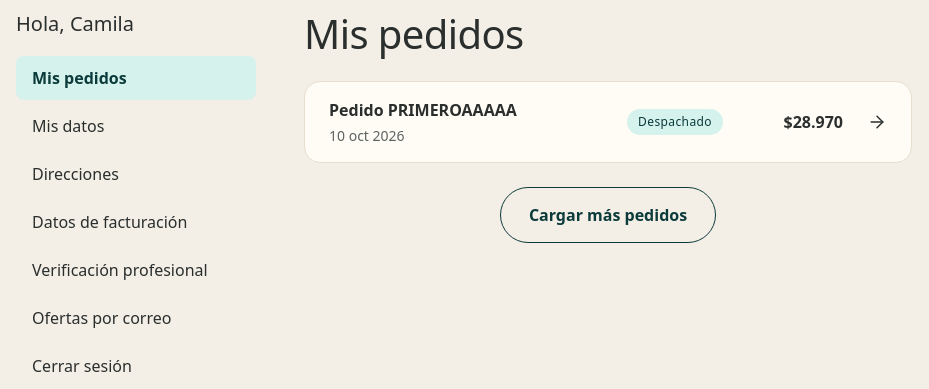
Mis pedidos (SCRUM-129) › E8-H1 FE · listado: si falla «Cargar más», conserva los pedidos ya leídos y ofrece reintentar
The image size is (929, 389).
Click the button "Cargar más pedidos": (608, 215) [500,187,716,243]
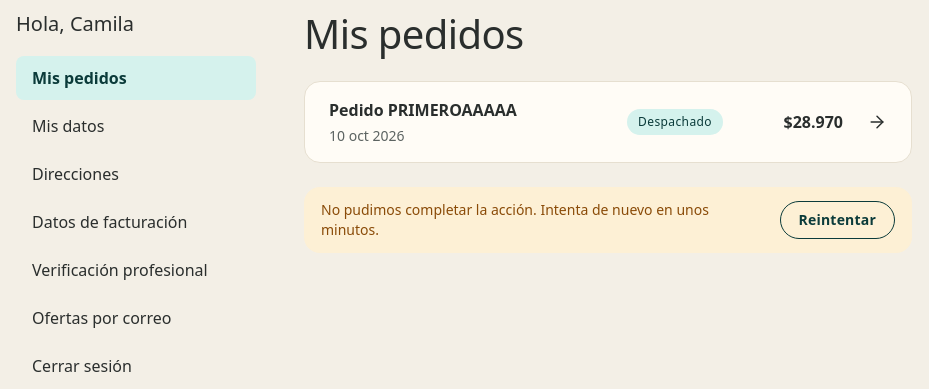
Expected: the text "Pedido PRIMEROAAAAA" is shown, [329,98,517,122]
Expected: the button "Reintentar" is shown, [780,201,895,239]
